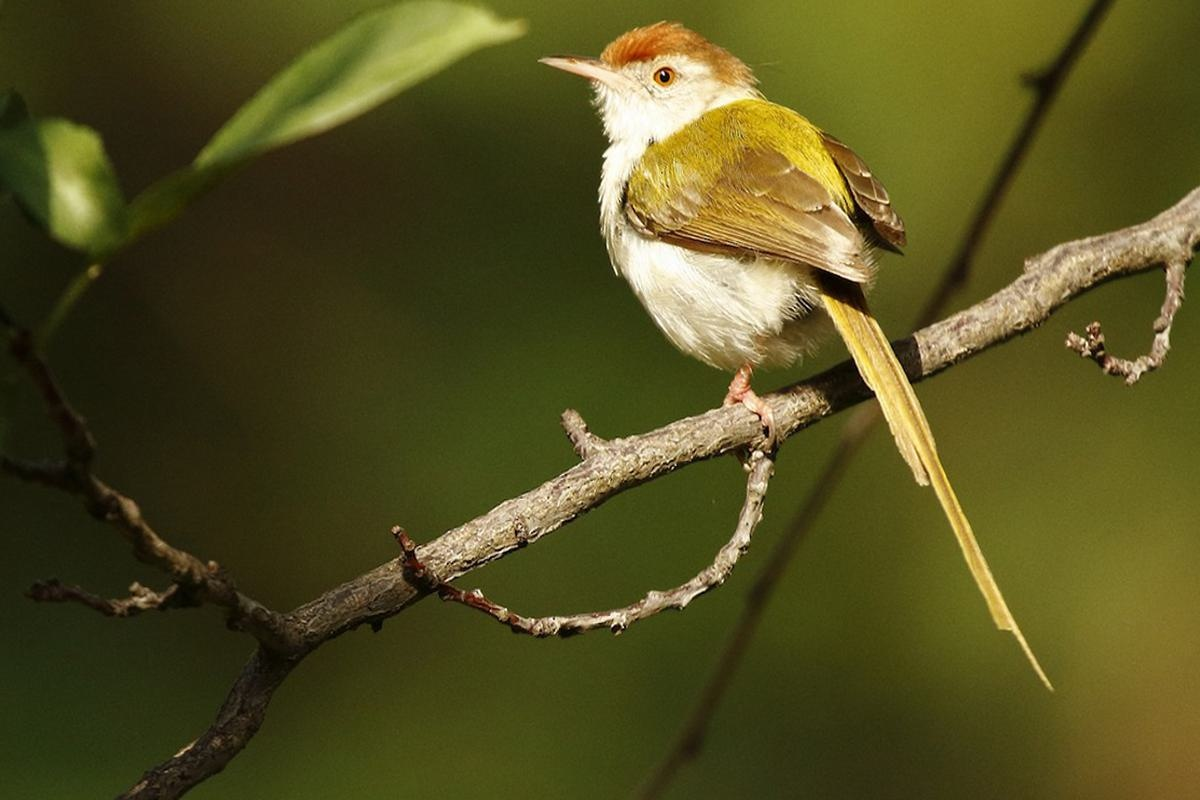tailorbird: (557, 26, 1056, 624)
